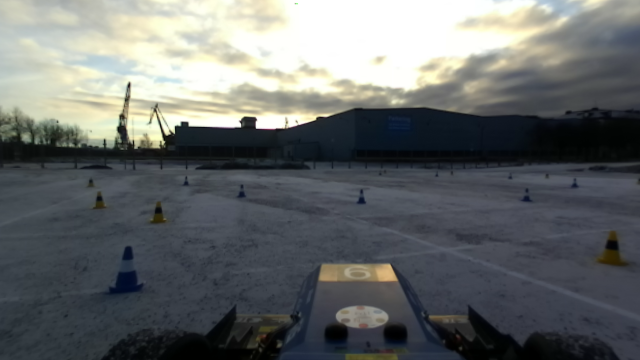blue: (107, 243, 147, 294), (234, 181, 249, 201), (519, 185, 533, 204), (355, 187, 368, 205), (569, 176, 580, 190), (182, 175, 190, 186)
yellow: (595, 227, 629, 268), (148, 199, 168, 224), (91, 190, 107, 210), (86, 177, 95, 189)
